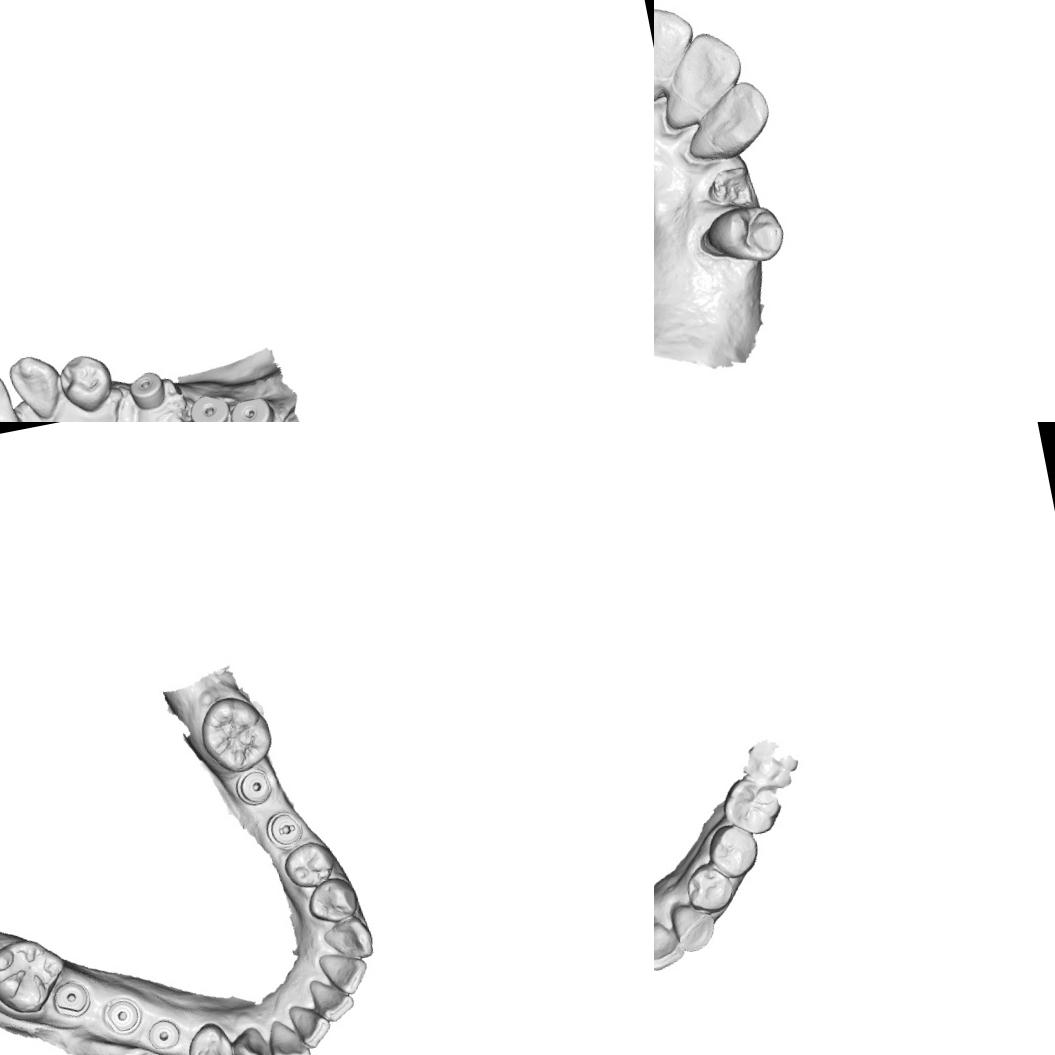canine: (3, 350, 66, 422), (318, 912, 378, 967), (666, 896, 720, 956), (226, 1022, 273, 1055)
implant: (124, 366, 169, 414), (49, 973, 93, 1018), (234, 766, 275, 808), (103, 994, 143, 1037), (144, 1014, 184, 1054), (184, 390, 233, 422), (225, 393, 278, 422)
implant_minus: (263, 806, 308, 853)
incisor: (654, 24, 752, 132), (675, 74, 779, 168), (654, 0, 705, 110), (314, 942, 372, 1000), (284, 997, 332, 1054), (306, 972, 356, 1026), (261, 1012, 312, 1055), (654, 914, 689, 973), (0, 365, 22, 422)
molar: (192, 688, 276, 778), (0, 927, 69, 1021), (716, 769, 786, 842)
premolar: (692, 198, 789, 274), (53, 348, 118, 417), (701, 817, 765, 884), (280, 836, 344, 894), (680, 857, 739, 918), (302, 872, 364, 927), (181, 1018, 237, 1055)
